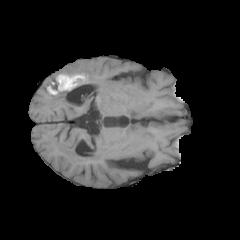glioma: (46, 70, 96, 164)
